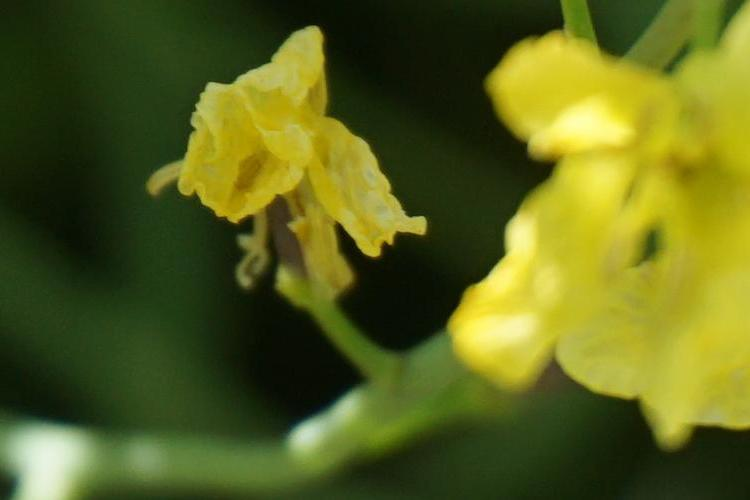yellow: (448, 34, 735, 424), (154, 41, 392, 317)
